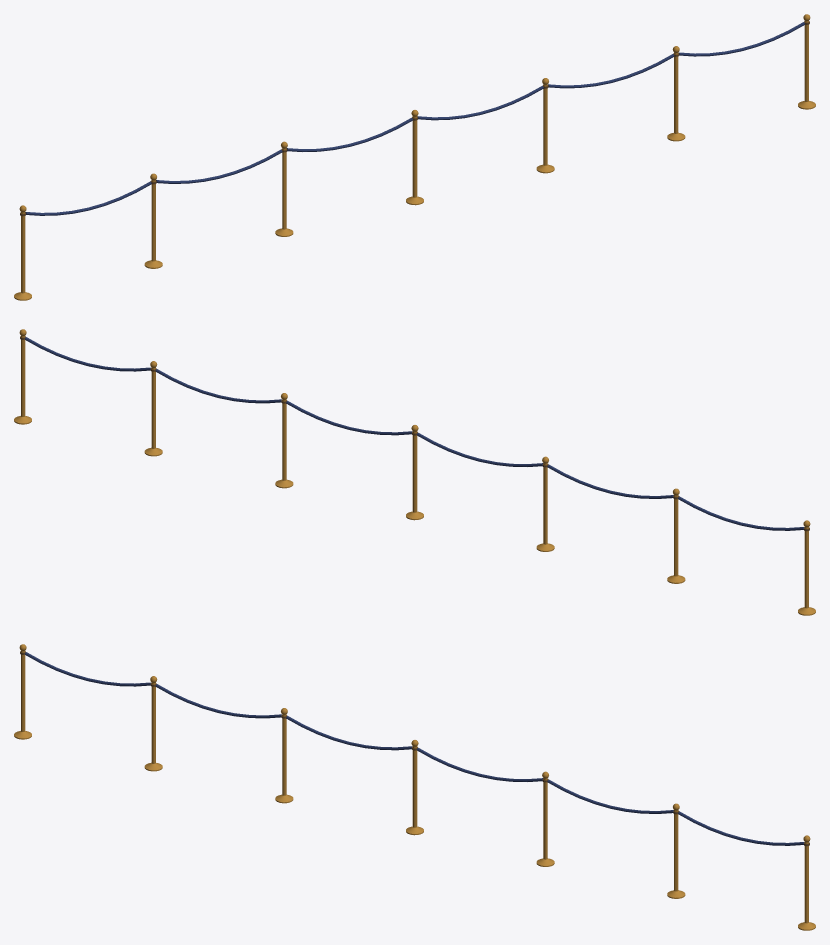
Rendered from prop_of_queue_rail_w900.glb.
The picture shows the model from 3 angles, top to bottom: view 1: azimuth 30°, elevation 25°; view 2: azimuth 150°, elevation 25°; view 3: azimuth 330°, elevation 25°; orthographic projection.
Visible parts, largest first — view 1: Rail; view 2: Rail; view 3: Rail.
Boxes of the visible parts, x1,y1,x2,y2 form: Rail: (14,14,815,300); Rail: (14,329,815,615); Rail: (14,644,815,930).
Bounding box in the file's own units: 9.08 × 0.99 × 0.18.
